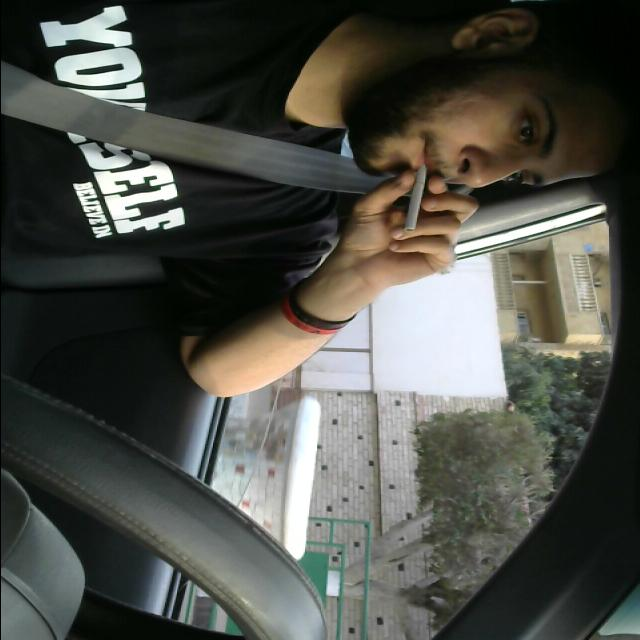smoking: (398, 156, 433, 232)
